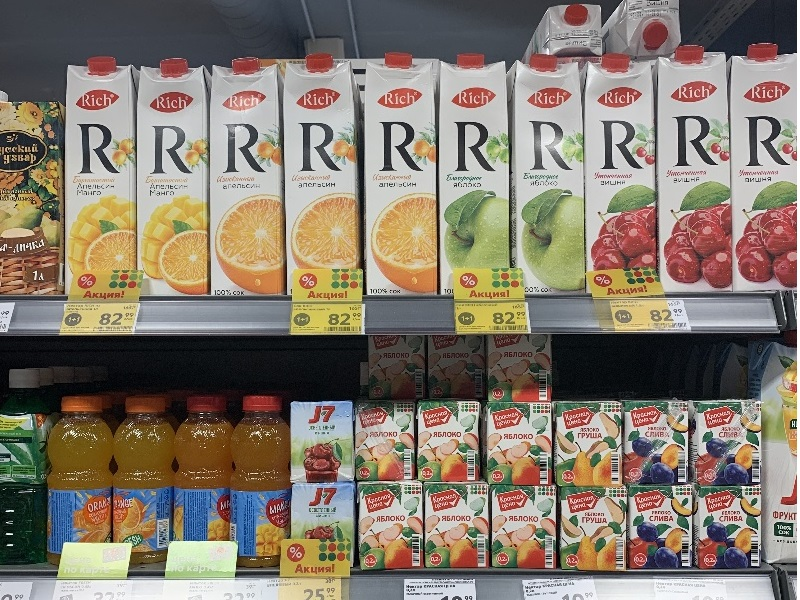juice: (503, 48, 603, 305), (273, 50, 369, 308), (199, 55, 294, 313), (433, 51, 525, 311), (356, 49, 449, 305), (657, 43, 746, 298), (582, 54, 669, 301), (129, 54, 215, 303), (61, 54, 143, 304), (729, 36, 800, 304)
